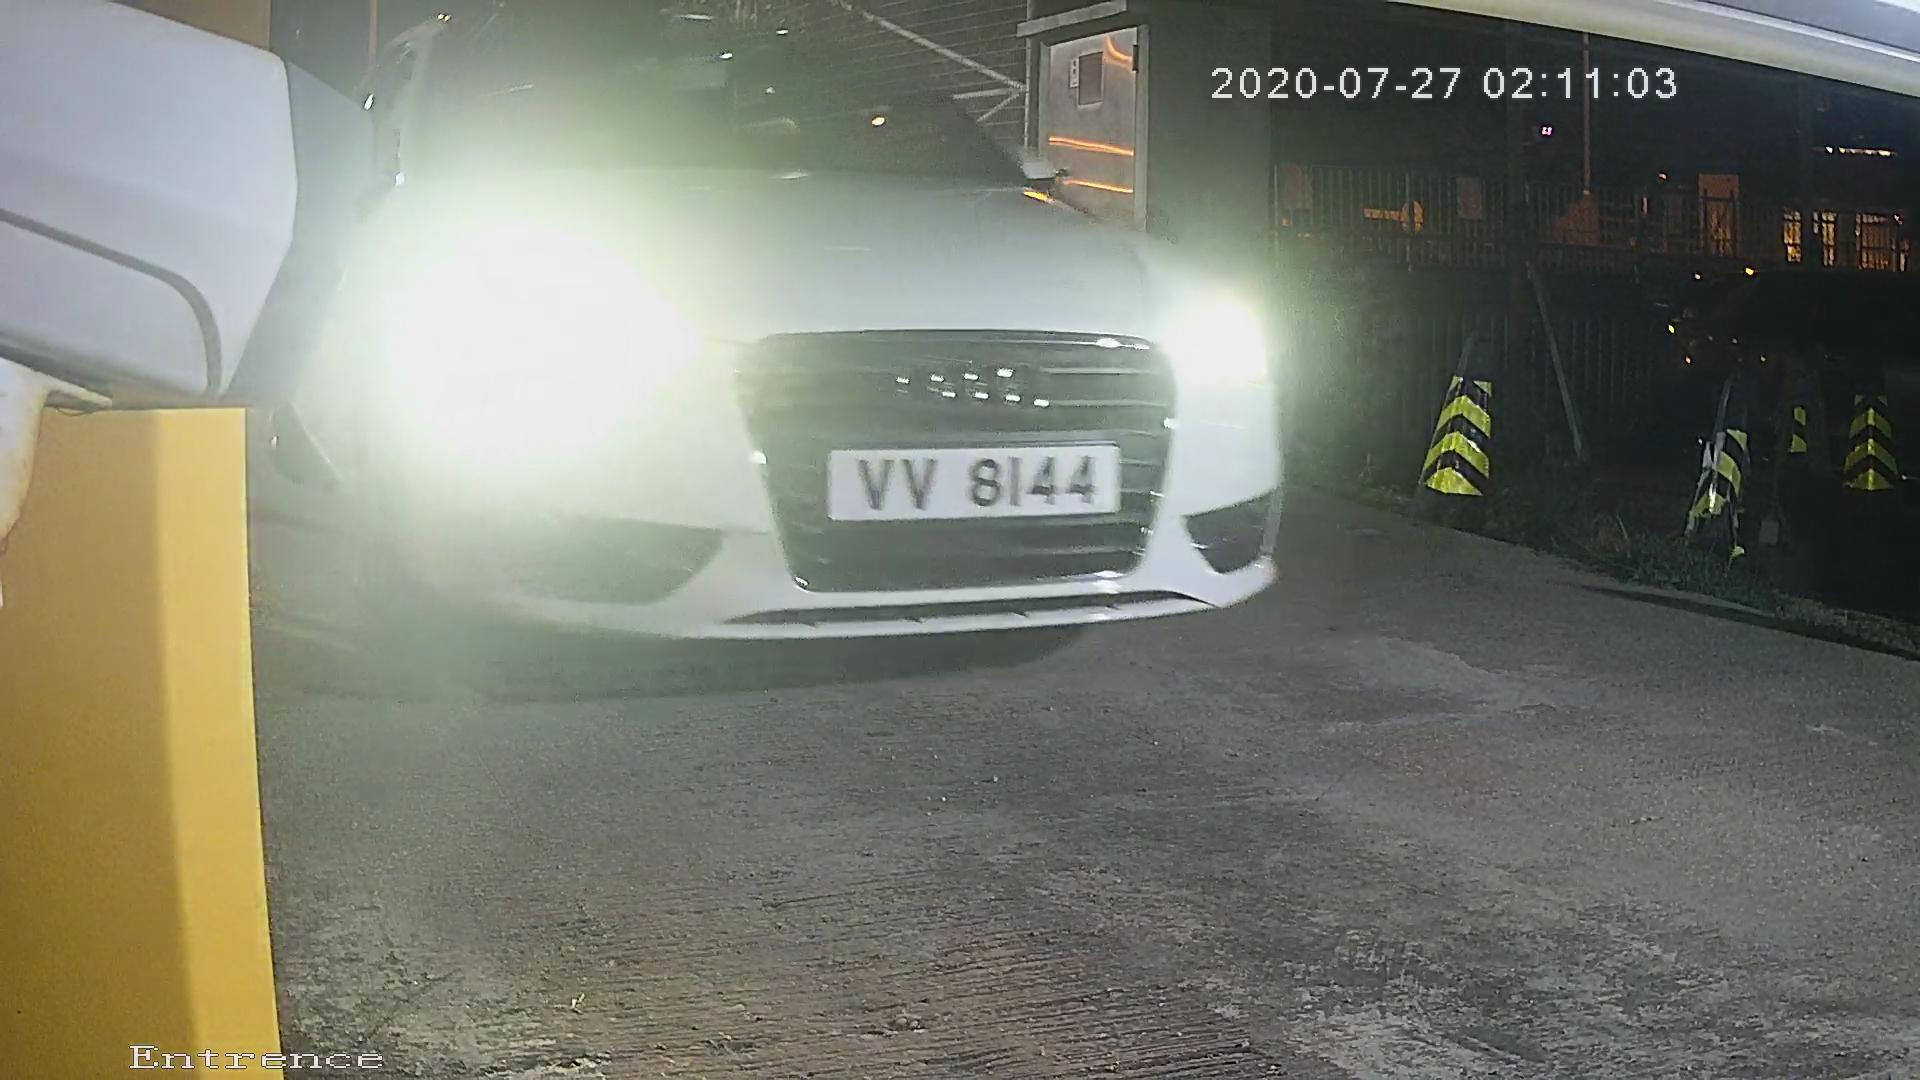Car: (43, 25, 1492, 762)
License Plate: (781, 420, 1149, 540)
